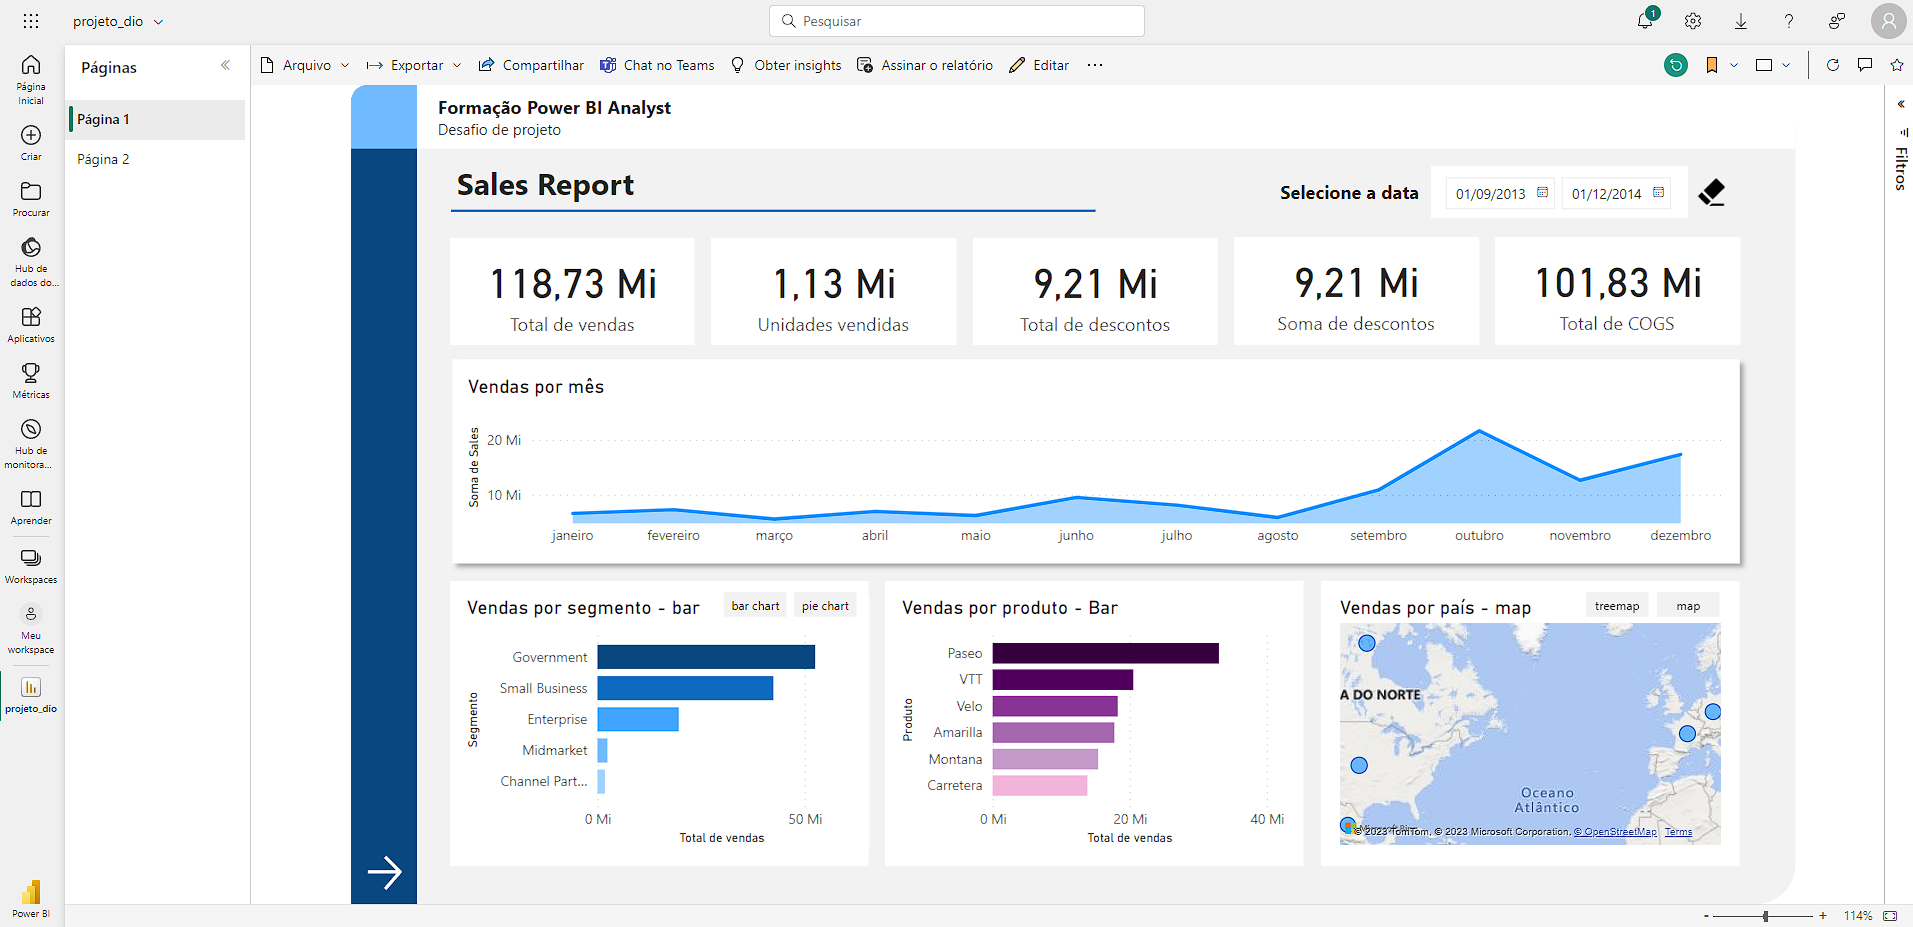

What the dashboard file says about the page in this screenshot:
{"tool":"powerbi","page":{"name":"Página 1","canvas":[1280,720],"ordinal":0},"visuals":[{"type":"shape","box":[9.7,0,1270.3,720.2],"z":0},{"type":"slicer","fields":{"Values":["financials.Date"]},"box":[959.3,70.9,226.5,45.7],"z":0,"group":"g1"},{"type":"card","fields":{"Values":["Sum(financials. Sales)"]},"box":[97.1,134.7,214.8,94.3],"z":0,"group":"g2"},{"type":"shape","box":[9.7,0,58.3,720.2],"z":1000},{"type":"textbox","box":[798.9,77.7,154.5,37.9],"z":1000,"group":"g1"},{"type":"card","fields":{"Values":["Sum(financials.Units Sold)"]},"box":[326.5,134.7,214.8,94.3],"z":1000,"group":"g2"},{"type":"map","title":"Vendas por país - map","fields":{"Category":["financials.Country"],"Size":["Sum(financials. Sales)"]},"box":[873.7,449.2,345.5,223.6],"z":1000,"group":"g3"},{"type":"actionButton","title":"Botão - map","box":[1157.3,445.4,55.2,21.9],"z":1500,"group":"g3"},{"type":"clusteredBarChart","title":"Vendas por segmento - bar","fields":{"Y":["Sum(financials. Sales)"],"Category":["financials.Segment"]},"box":[106.7,449.2,358.6,223.5],"z":1500,"group":"g4"},{"type":"shape","box":[9.7,0,58.3,56.4],"z":2000},{"type":"card","fields":{"Values":["Sum(financials.Discounts)"]},"box":[556.8,134.7,214.8,94.3],"z":2000,"group":"g2"},{"type":"actionButton","title":"Botão - pie","box":[399.7,445.4,55.2,21.9],"z":2000,"group":"g4"},{"type":"actionButton","title":"Botão - treemap","box":[1095.4,445.4,55.2,21.9],"z":2000,"group":"g3"},{"type":"actionButton","title":"Botão - bar","box":[337.8,445.4,55.2,21.9],"z":2500,"group":"g4"},{"type":"shape","box":[68,0,1212,56.4],"z":3000},{"type":"card","fields":{"Values":["Sum(financials.Discounts)"]},"box":[786.2,133.7,214.8,94.3],"z":3000,"group":"g2"},{"type":"textbox","box":[80.7,3.9,300.3,49.6],"z":4000},{"type":"card","fields":{"Values":["Sum(financials.COGS)"]},"box":[1015.6,133.7,214.8,94.3],"z":4000,"group":"g2"},{"type":"shape","box":[97.1,134.6,214.8,94.3],"z":5000},{"type":"shape","box":[326.9,134.6,214.8,94.3],"z":6000},{"type":"shape","box":[556.8,134.6,214.8,94.3],"z":7000},{"type":"shape","box":[786.6,134.6,214.8,94.3],"z":8000},{"type":"shape","box":[1016.5,134.6,214.8,94.3],"z":9000},{"type":"shape","box":[97.2,94.3,566.6,33],"z":10000},{"type":"textbox","box":[97.2,62.2,300.3,48.6],"z":11000},{"type":"shape","box":[89.4,232.3,1149.8,197.3],"z":12000},{"type":"shape","box":[96.8,435.6,368.4,250.8],"z":13000},{"type":"shape","box":[478.7,435.6,368.4,250.8],"z":14000},{"type":"shape","box":[862.6,435.6,368.4,250.8],"z":15000},{"type":"stackedAreaChart","title":"Vendas por mês","fields":{"Category":["financials.Date.Variation.Hierarquia de datas.Mês"],"Y":["Sum(financials. Sales)"]},"box":[106.9,254.6,1111.9,159.4],"z":16000},{"type":"group","id":"g1","title":"Filtros","box":[798.9,70.9,386.8,45.7],"z":17000},{"type":"image","box":[1188.2,70.9,33.7,46.1],"z":17500},{"type":"group","id":"g2","title":"Cartões","box":[97.1,133.7,1133.2,95.2],"z":18000},{"type":"actionButton","box":[18.3,672.2,50,40.4],"z":19000},{"type":"clusteredBarChart","title":"Vendas por produto - Bar","fields":{"Y":["Sum(financials. Sales)"],"Category":["financials.Product"]},"box":[488.7,449.1,346,223.5],"z":20000},{"type":"group","id":"g3","title":"Vendas por país","box":[873.6,445.4,345.5,227.4],"z":22000},{"type":"group","id":"g4","title":"Vendas por segmento","box":[106.7,445.4,358.8,227.6],"z":23000},{"type":"actionButton","box":[1184.4,70.4,45.3,45.3],"z":23001},{"type":"image","box":[13.8,0,51.6,52.8],"z":23002}]}

Visuals, with their boxes on the page's 1280x720 design canvas (x1, y1, x2, y2). These are canvas units, not pixel positions in the 1913x927 screenshot, which may show the page scaled, cropped or inside an application window:
shape: 10:0:1280:720
slicer - financials.Date: 959:71:1186:117
card - Sum(financials. Sales): 97:135:312:229
shape: 10:0:68:720
textbox: 799:78:953:116
card - Sum(financials.Units Sold): 326:135:541:229
"Vendas por país - map" map: 874:449:1219:673
"Botão - map" actionButton: 1157:445:1212:467
"Vendas por segmento - bar" clusteredBarChart: 107:449:465:673
shape: 10:0:68:56
card - Sum(financials.Discounts): 557:135:772:229
"Botão - pie" actionButton: 400:445:455:467
"Botão - treemap" actionButton: 1095:445:1151:467
"Botão - bar" actionButton: 338:445:393:467
shape: 68:0:1280:56
card - Sum(financials.Discounts): 786:134:1001:228
textbox: 81:4:381:54
card - Sum(financials.COGS): 1016:134:1230:228
shape: 97:135:312:229
shape: 327:135:542:229
shape: 557:135:772:229
shape: 787:135:1001:229
shape: 1016:135:1231:229
shape: 97:94:664:127
textbox: 97:62:398:111
shape: 89:232:1239:430
shape: 97:436:465:686
shape: 479:436:847:686
shape: 863:436:1231:686
"Vendas por mês" stackedAreaChart: 107:255:1219:414
"Filtros" group: 799:71:1186:117
image: 1188:71:1222:117
"Cartões" group: 97:134:1230:229
actionButton: 18:672:68:713
"Vendas por produto - Bar" clusteredBarChart: 489:449:835:673
"Vendas por país" group: 874:445:1219:673
"Vendas por segmento" group: 107:445:466:673
actionButton: 1184:70:1230:116
image: 14:0:65:53
